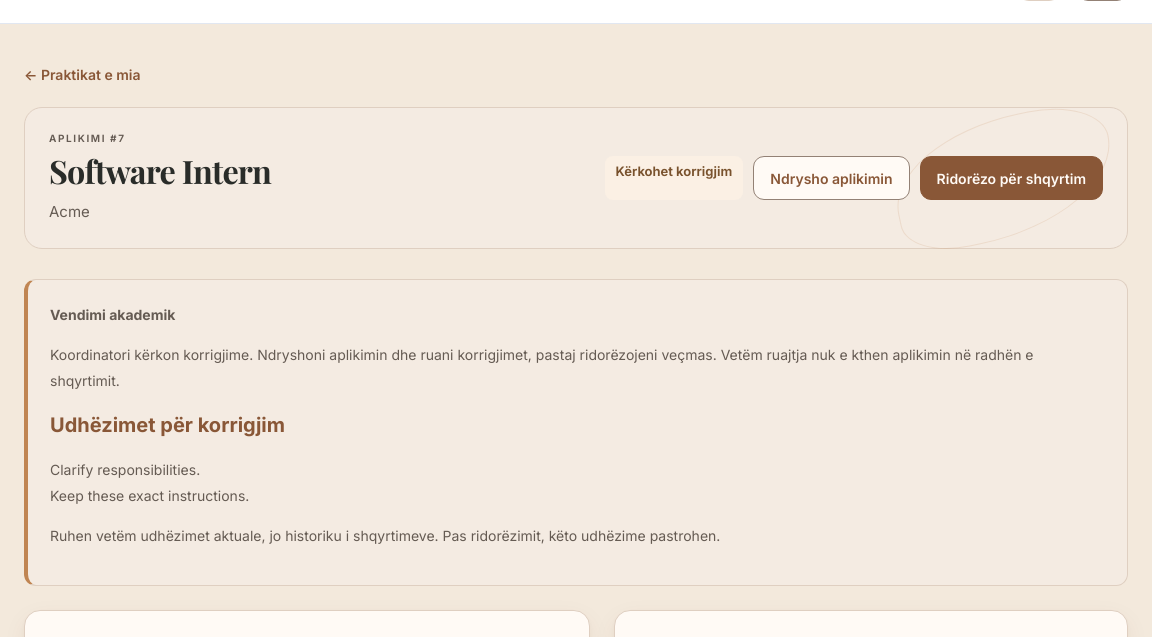
shows eligibility errors without losing instructions and links directly back to corrections
Click the button "Ridorëzo për shqyrtim" at (1011, 178), box [920, 156, 1103, 200]
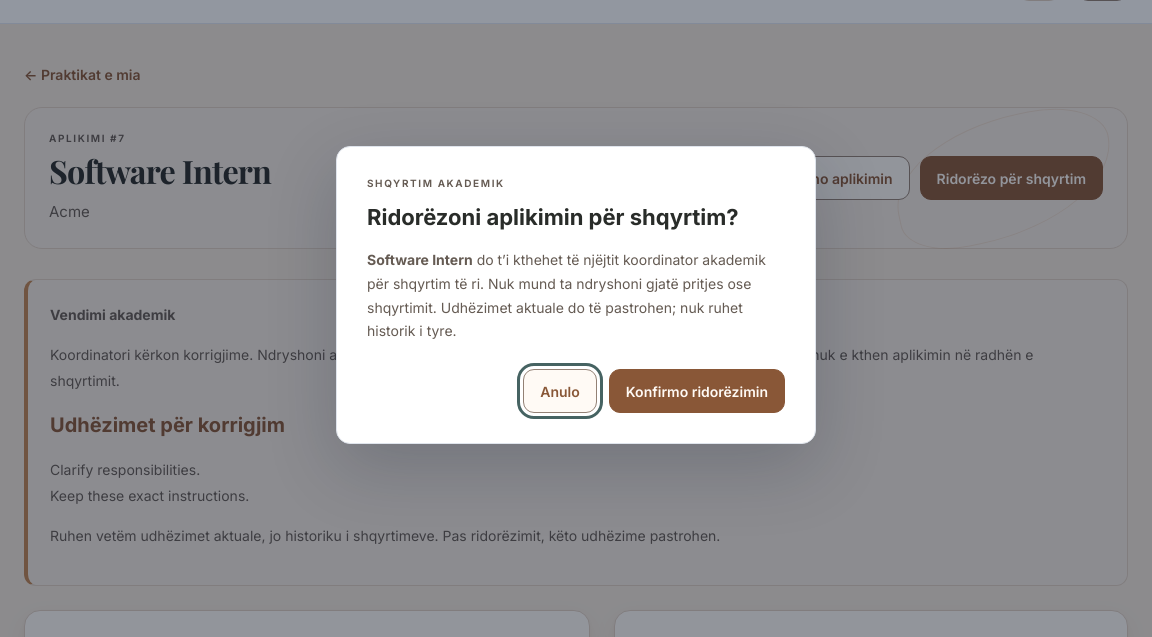
Click the button "Konfirmo ridorëzimin" at (697, 391), box [609, 369, 785, 413]
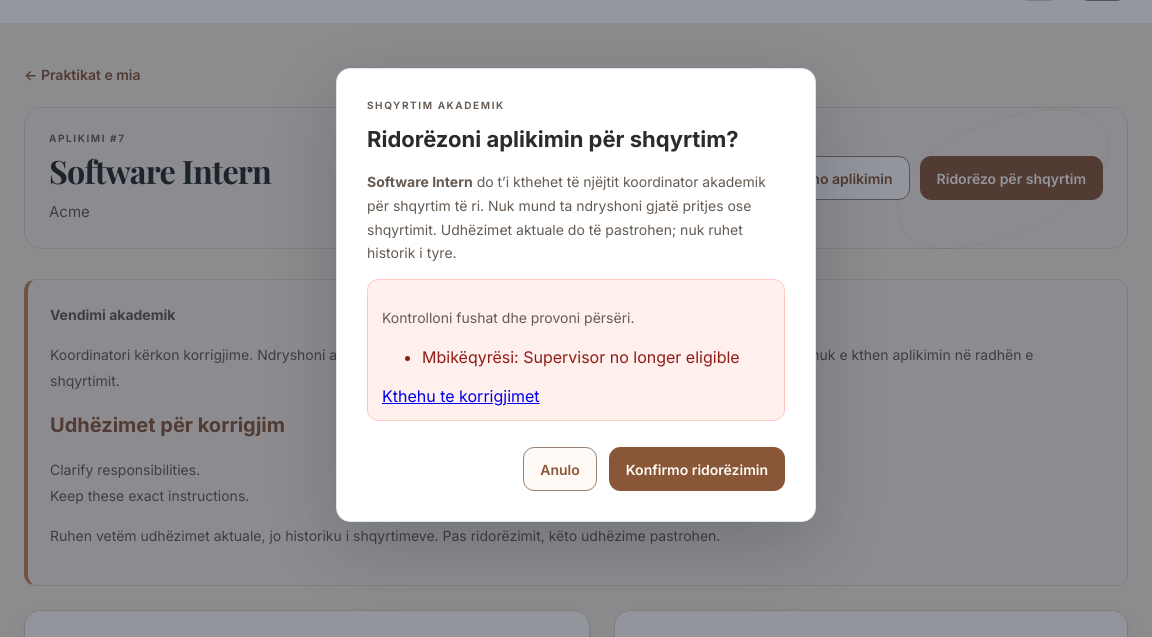
expect the element named "Gjendja e shqyrtimit" shows "Clarify responsibilities.": met, box [50, 461, 249, 504]
expect the button "Konfirmo ridorëzimin" is enabled: met, box [609, 447, 785, 491]
expect the message shows "Mbikëqyrësi: Supervisor no longer eligible": met, box [422, 347, 740, 367]
Click the link "Kthehu te korrigjimet" at (461, 396), box [382, 386, 540, 406]
(page scrolled)
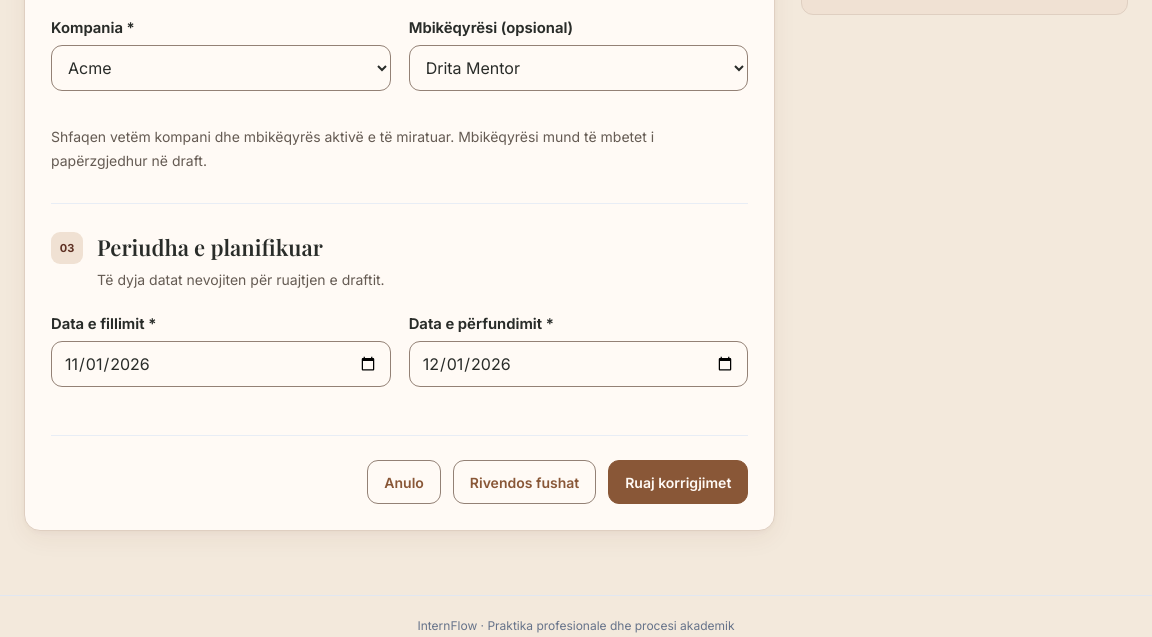
expect the button "Ruaj korrigjimet" is shown: met, box [608, 460, 748, 504]
